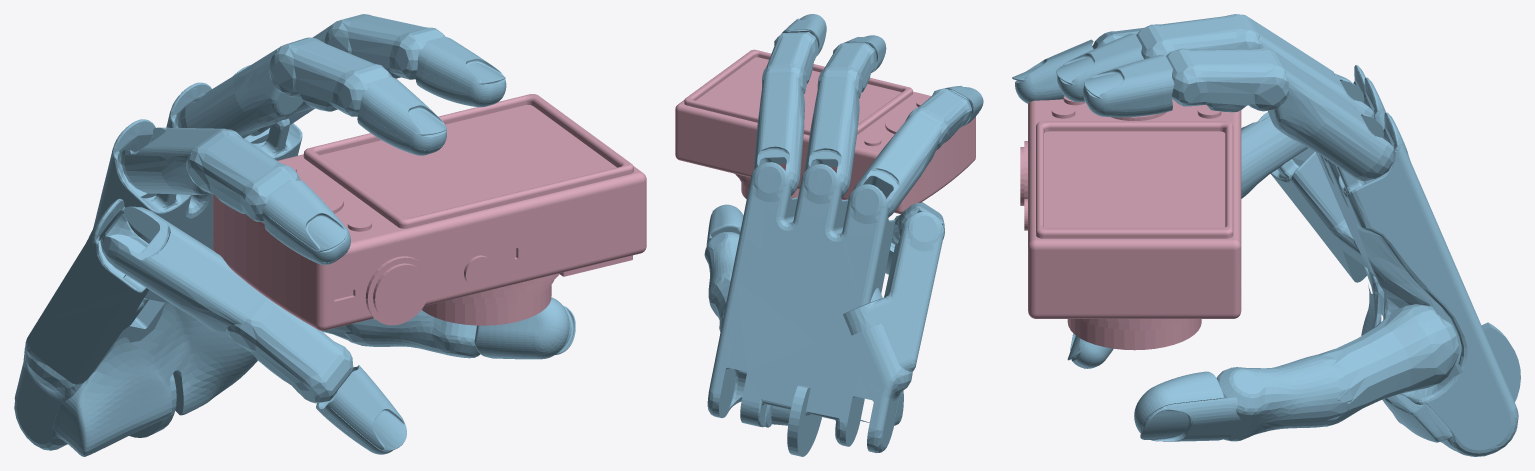
3 renders of one model, left to right at view 1: azimuth 30°, elevation 25°; view 2: azimuth 150°, elevation 25°; view 3: azimuth 270°, elevation 25°, orthographic. The views are drawn at different scales.
Visible parts, largest first — view 1: world, camera.stl; view 2: world, camera.stl; view 3: world, camera.stl.
Part boxes in pixels (x1,y1,x2,y2): world: (14, 14, 575, 456); camera.stl: (213, 94, 646, 330); world: (704, 14, 983, 456); camera.stl: (675, 49, 975, 213); world: (1012, 14, 1520, 456); camera.stl: (1020, 96, 1241, 350).
Size of the model in its own units: 0.1476 by 0.1528 by 0.1546.
